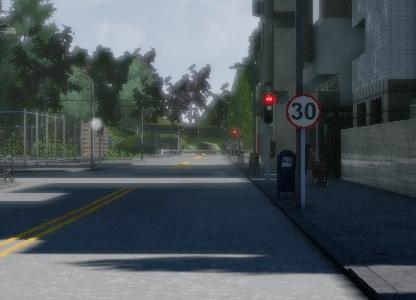Speed_30: (284, 92, 324, 131)
